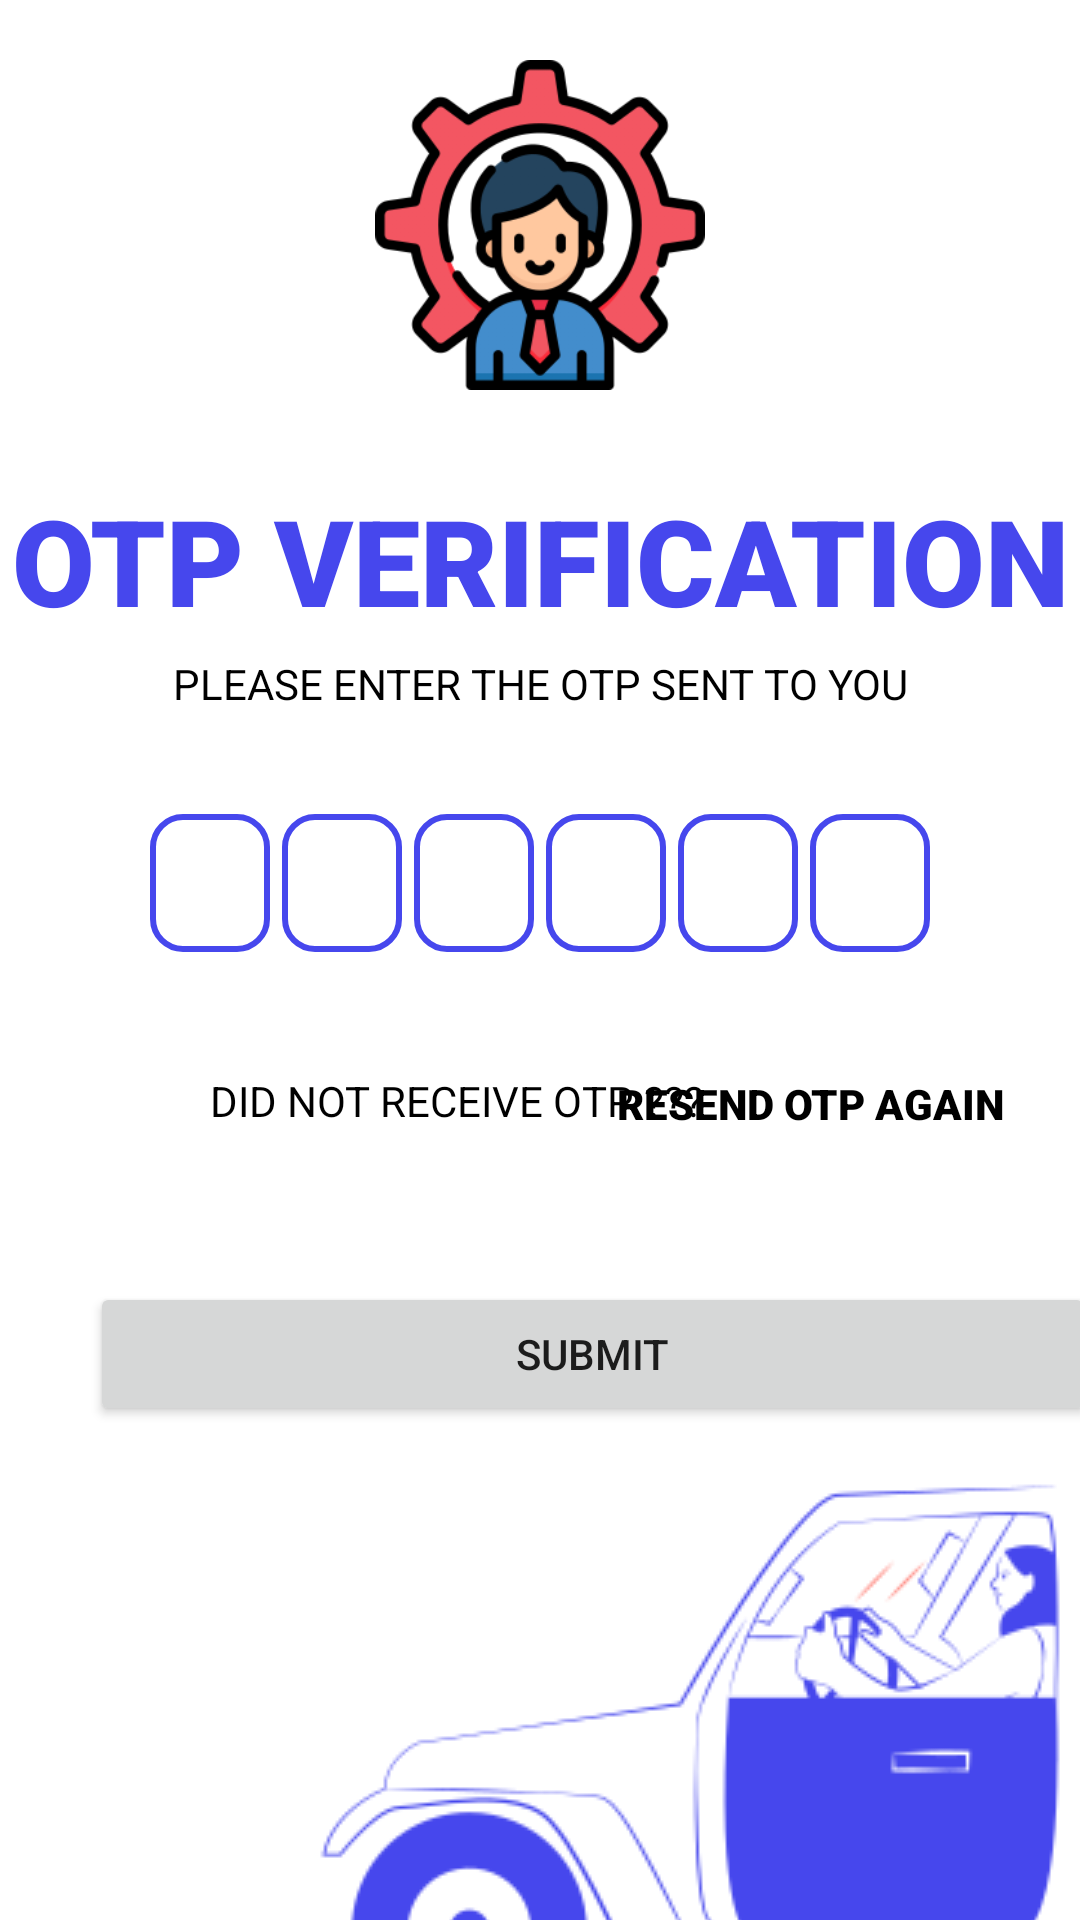

Where icons sit on this 1080 × 1920 app screen, as (x1, y1, x2, y2):
manager: (375, 60, 705, 390)
